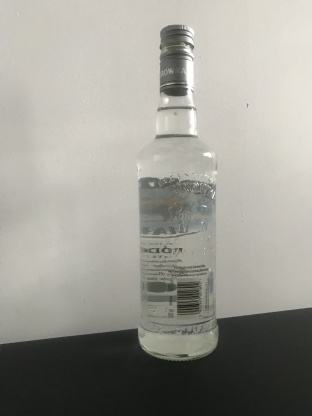nakretka: (158, 22, 195, 96)
